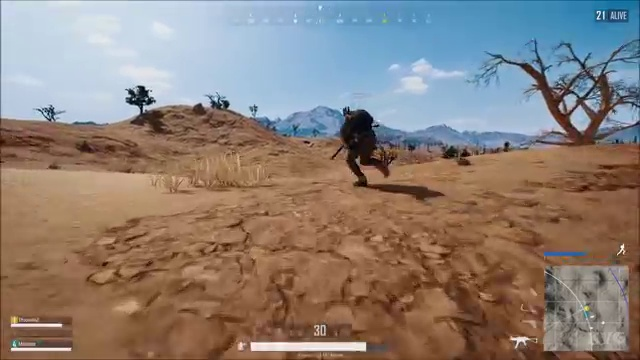Player: (326, 87, 404, 227)
